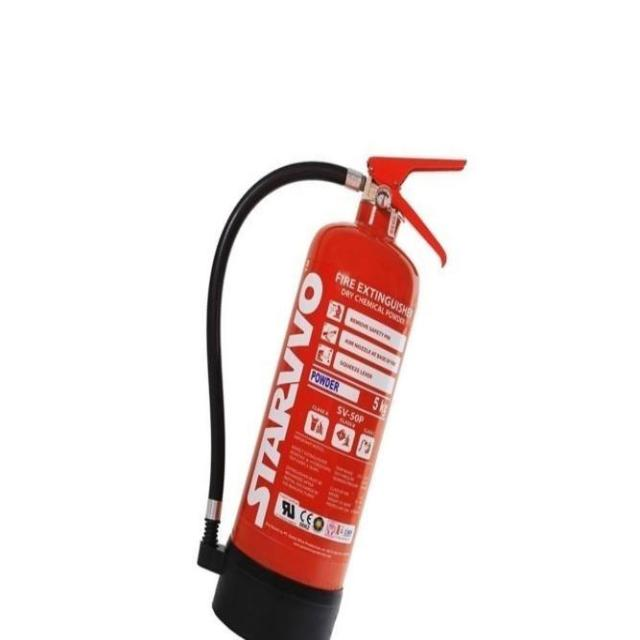fire_extinguisher: (189, 153, 467, 639)
